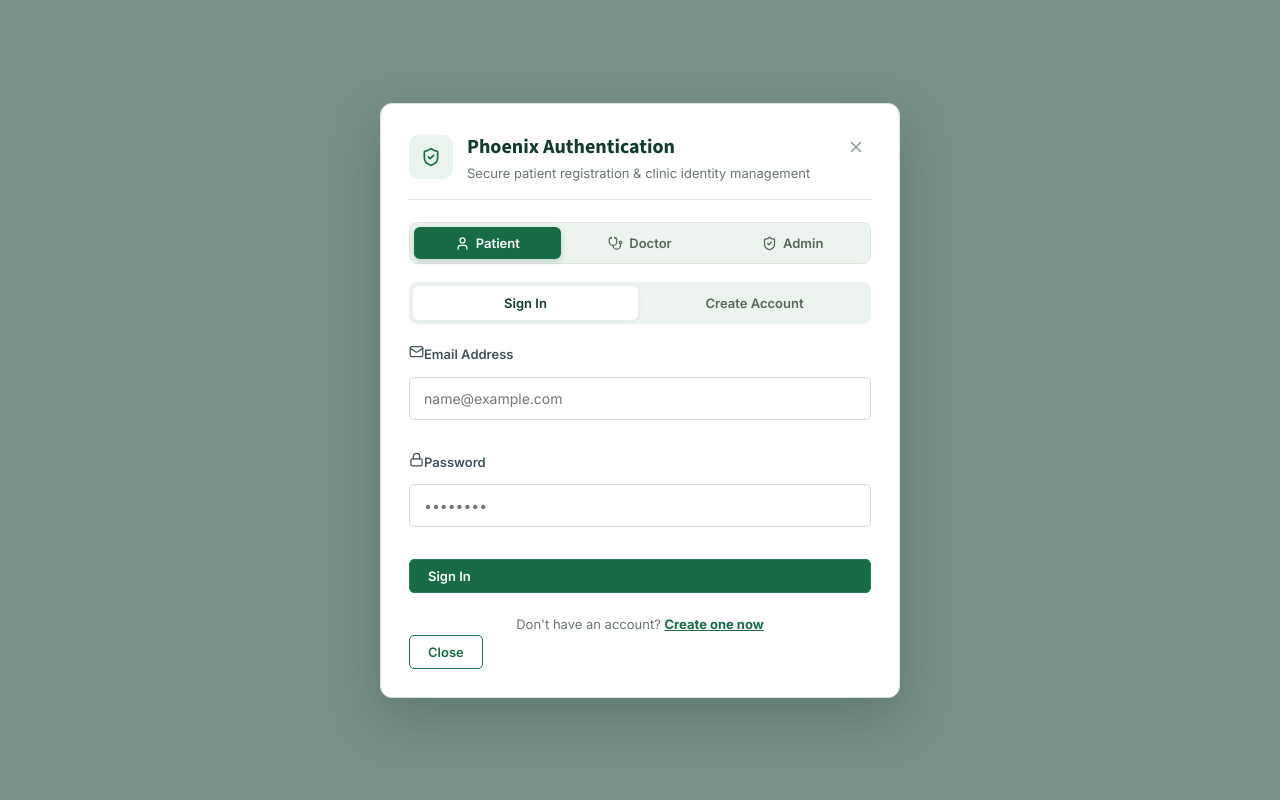
AuthModal › displays error banner when Supabase authentication fails
Step 1. Type "bad@example.com" into the field labelled "Email Address" → (640, 398), box [409,376,871,420]
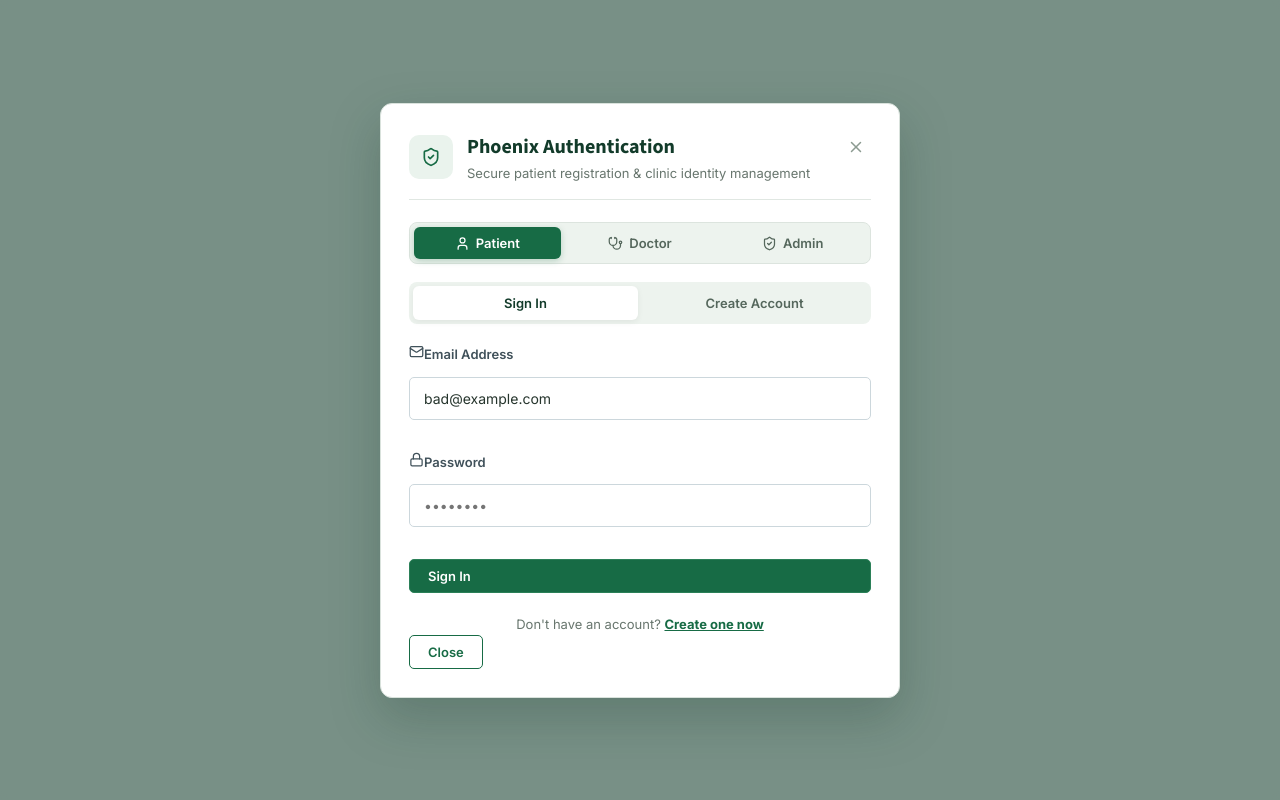
Step 2. Type "wrongpass" into the password field labelled "Password" → (640, 506), box [409,484,871,527]
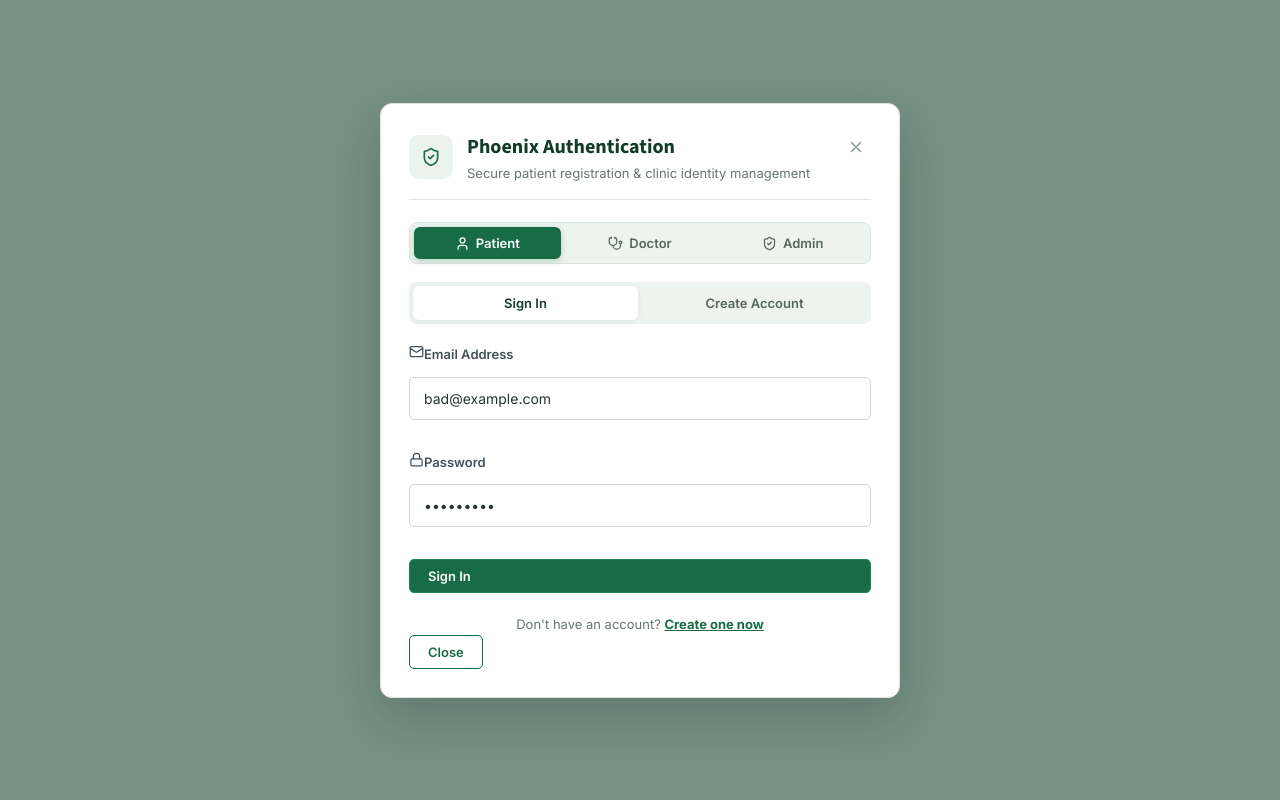
Step 3. Click the button "Sign In" → (449, 576), box [409,559,871,593]
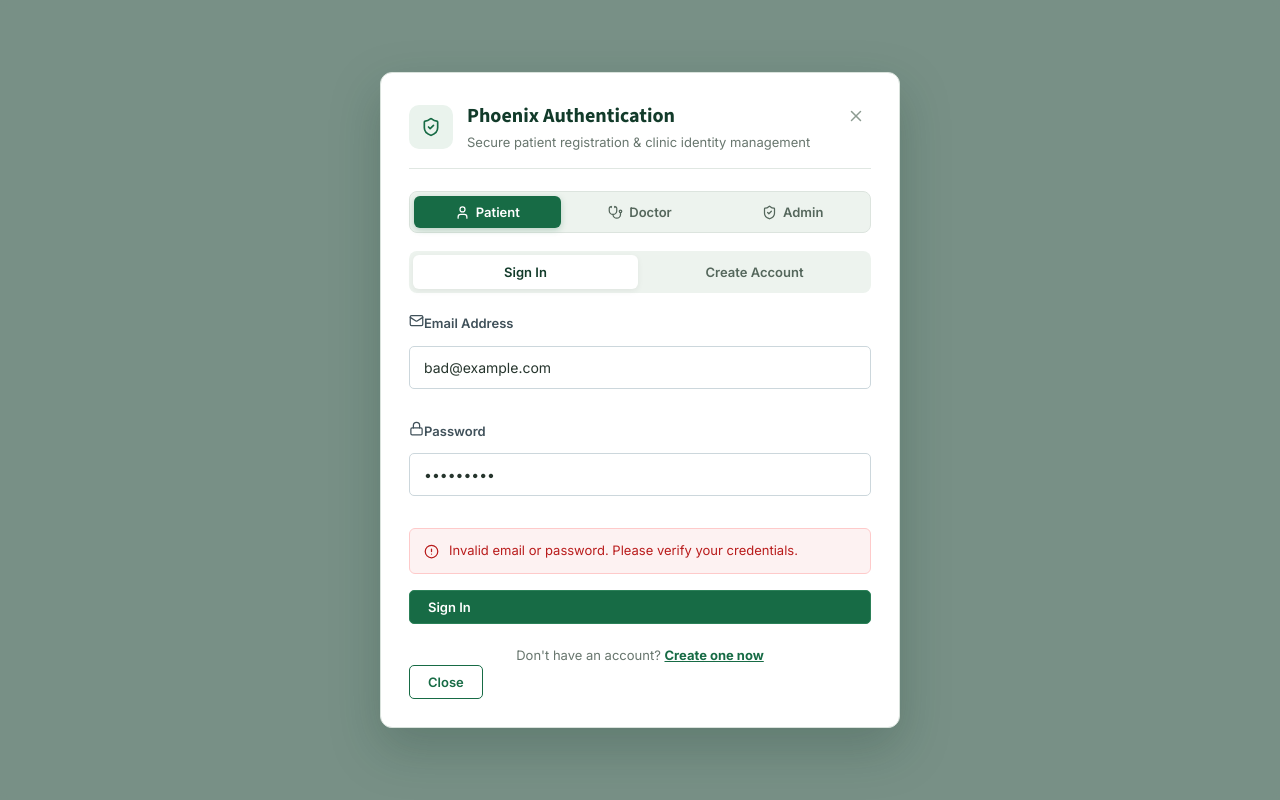
Result: the text "Invalid email or password. Please verify your credentials." is shown at [449,541,798,561]
